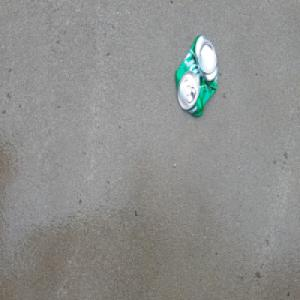SodaCan: (173, 32, 219, 119)
